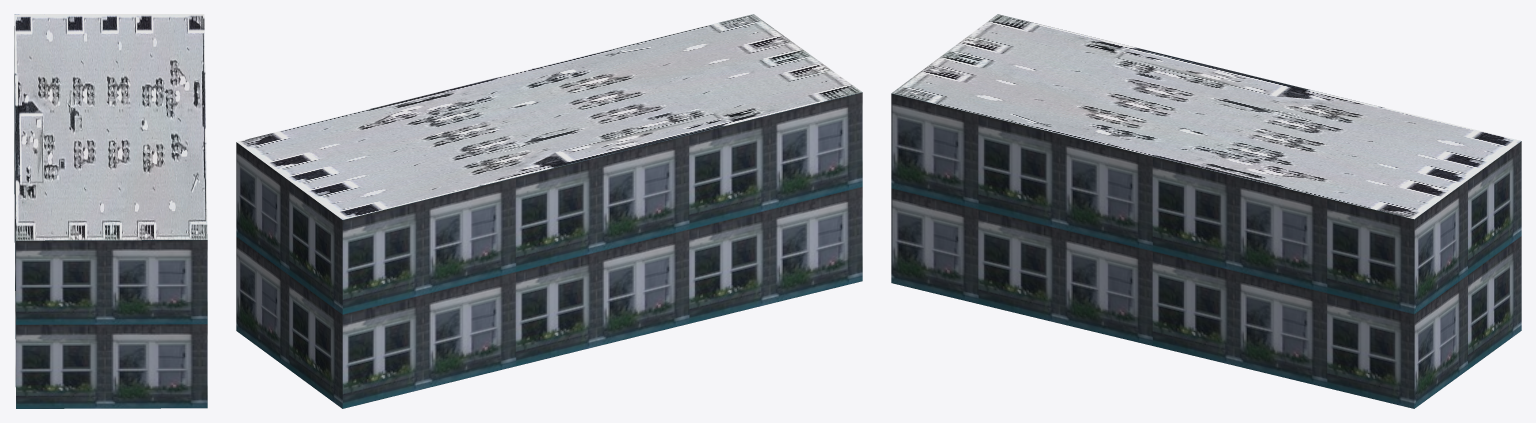
Rendered from ResTex__778.fbx.
3 views of the same model, side by side, from view 1: azimuth 30°, elevation 25°; view 2: azimuth 150°, elevation 25°; view 3: azimuth 270°, elevation 25° (orthographic). The views are drawn at different scales.
Parts seen in each view (by area): view 1: CityEngineMaterial_4_m, CityEngineMaterial_11_m; view 2: CityEngineMaterial_11_m, CityEngineMaterial_4_m; view 3: CityEngineMaterial_11_m, CityEngineMaterial_4_m.
Boxes of the visible parts, x1,y1,x2,y2 form: CityEngineMaterial_4_m: [14, 14, 207, 240]; CityEngineMaterial_11_m: [14, 26, 207, 408]; CityEngineMaterial_11_m: [236, 92, 862, 408]; CityEngineMaterial_4_m: [237, 14, 862, 219]; CityEngineMaterial_11_m: [891, 93, 1521, 408]; CityEngineMaterial_4_m: [891, 14, 1520, 219].
Bounding box in the file's own units: 13.92 × 6 × 18.07.
2 materials, 2 textured.
